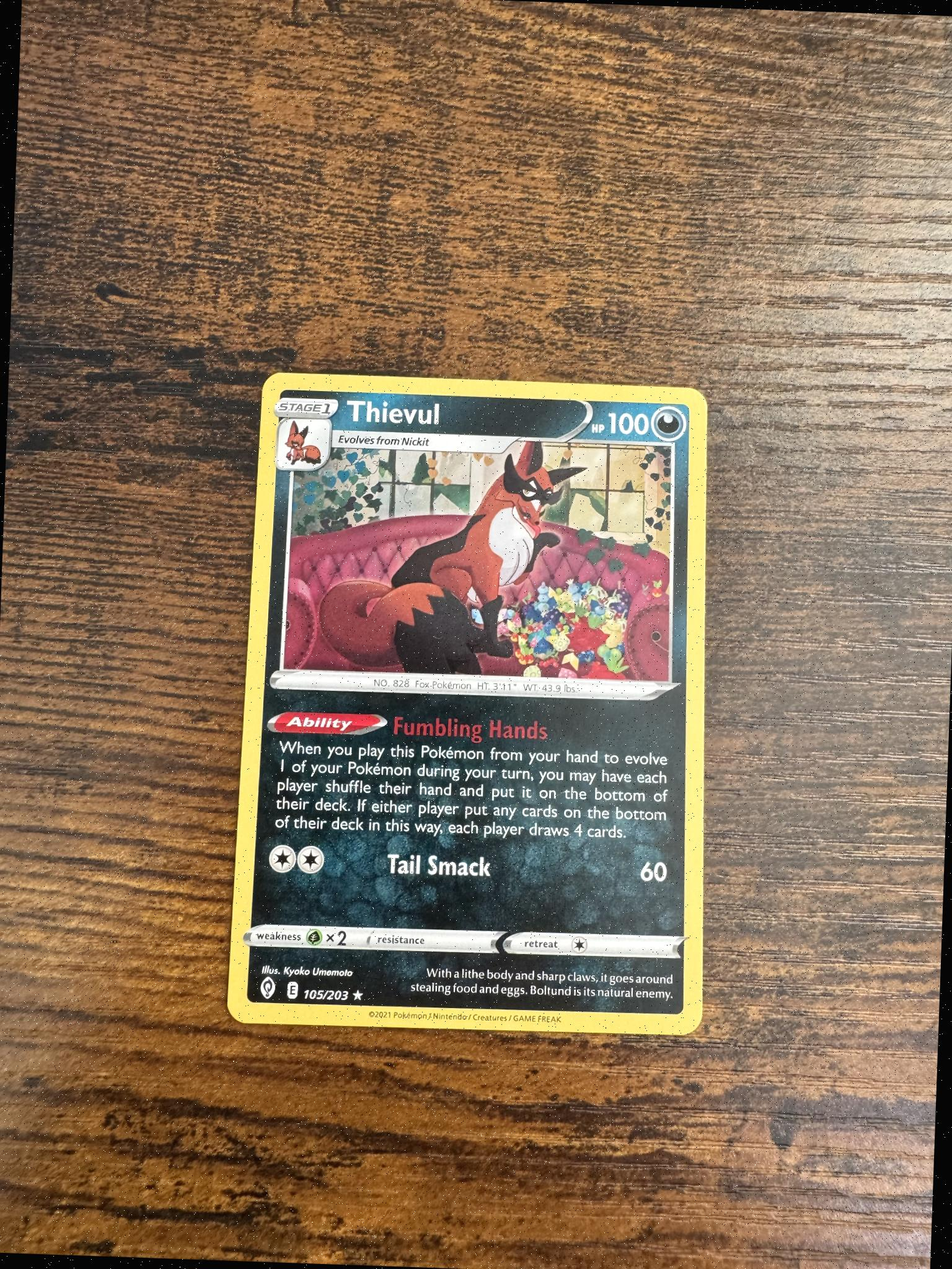card-2UtV: (227, 372, 707, 1035)
